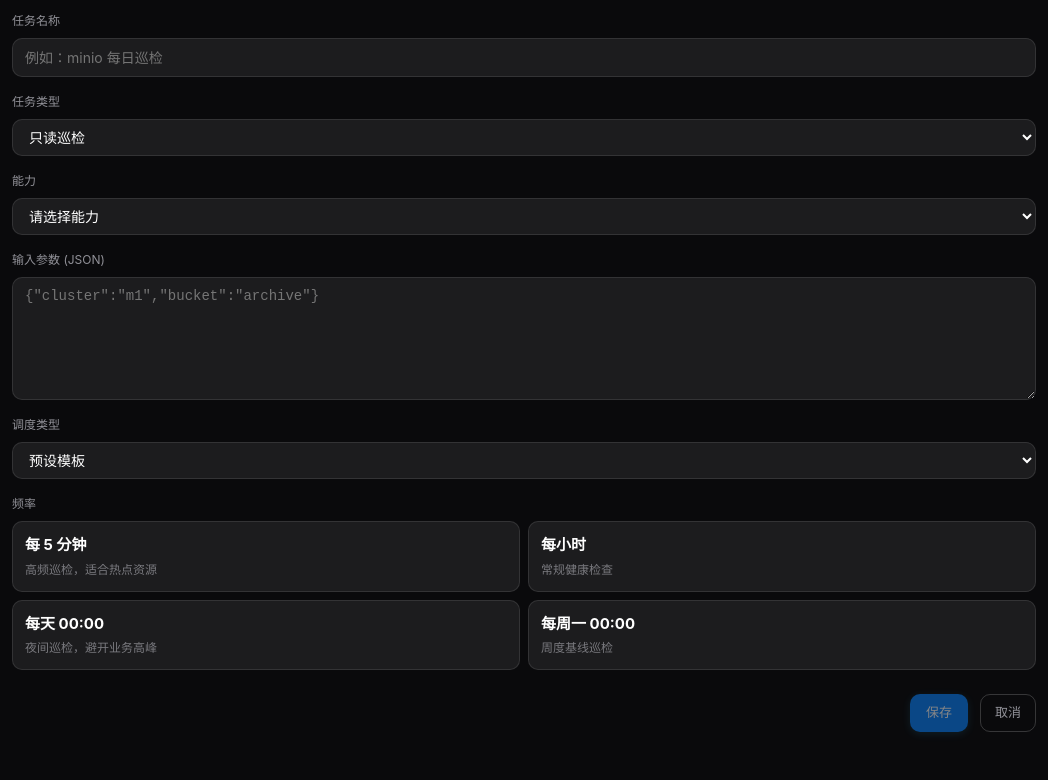
Test: ScheduledTaskForm › runbook 模式：默认只读，切到 runbook 显示模板下拉并隐藏 capability 下拉
Expected: the dropdown with test id "scheduled-task-capability" is shown, left=12, top=198, right=1036, bottom=235
Select "Runbook 自动执行" in the dropdown with test id "scheduled-task-run-kind" at [524, 138], box left=12, top=119, right=1036, bottom=156
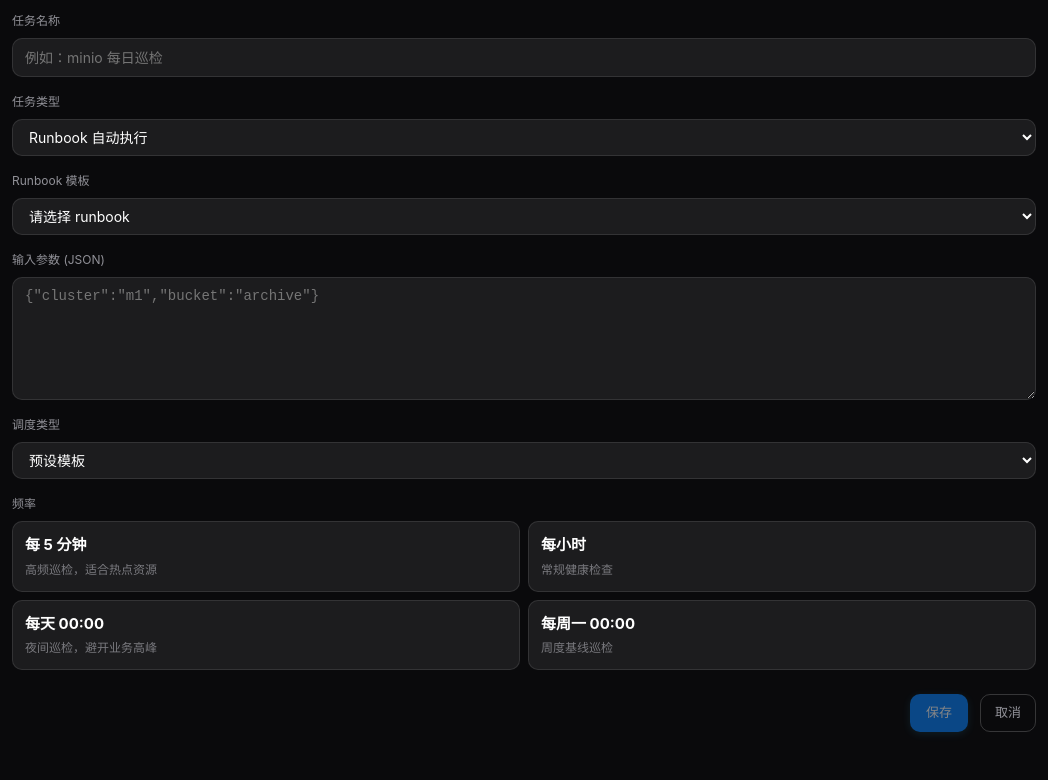
Result: the dropdown with test id "scheduled-task-runbook" is shown at left=12, top=198, right=1036, bottom=235
